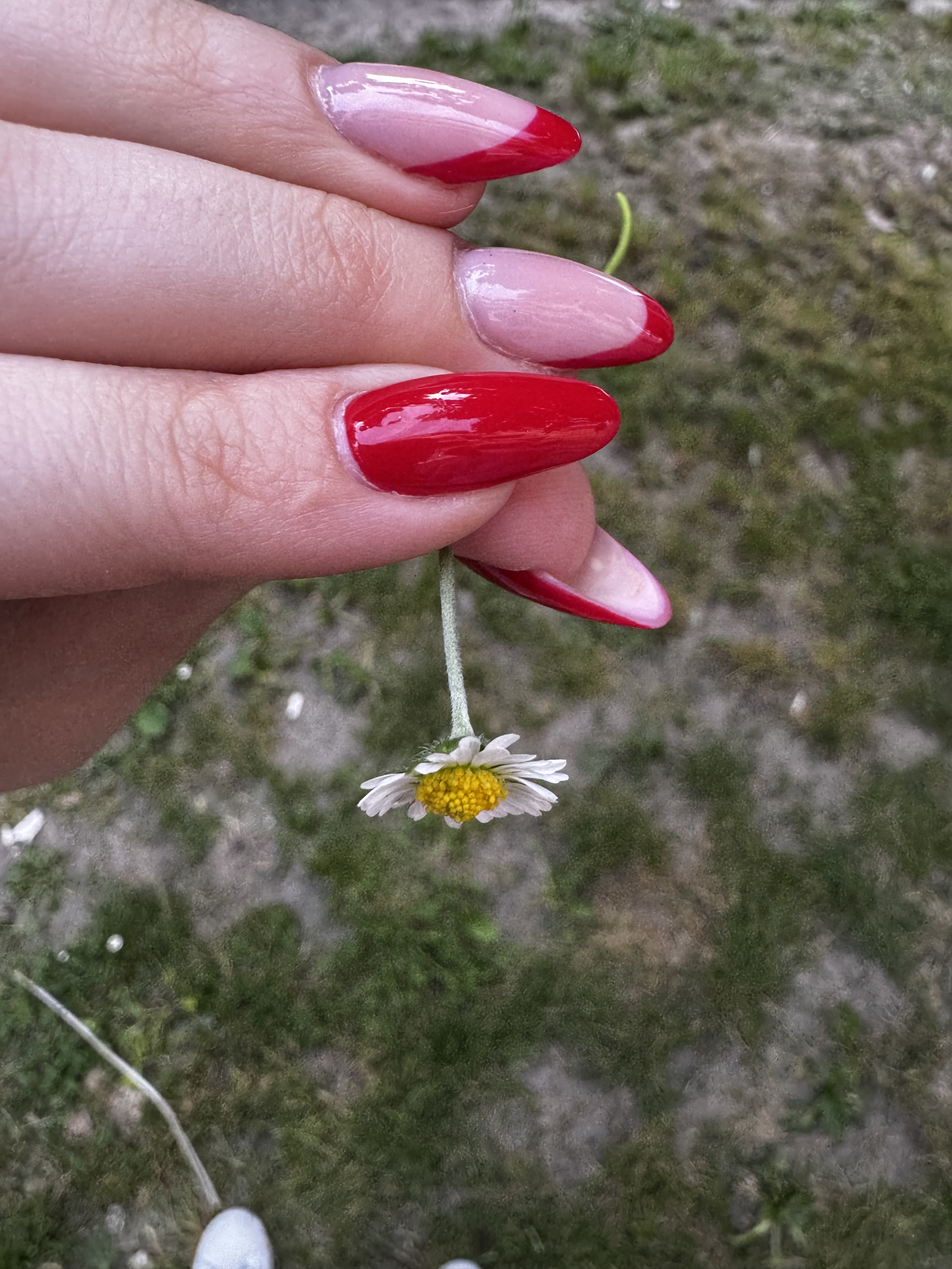daisy: (361, 721, 572, 889)
